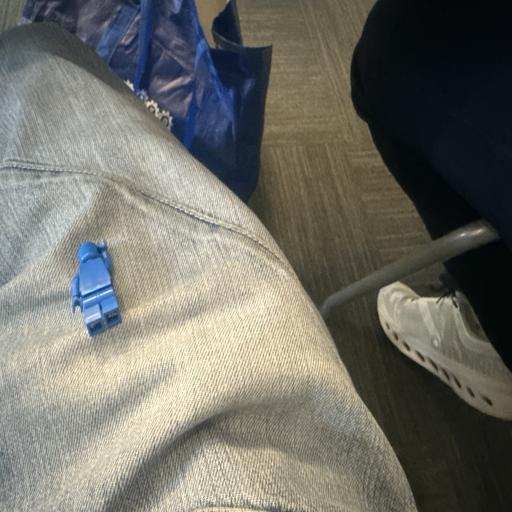Minifig: (71, 239, 121, 336)
